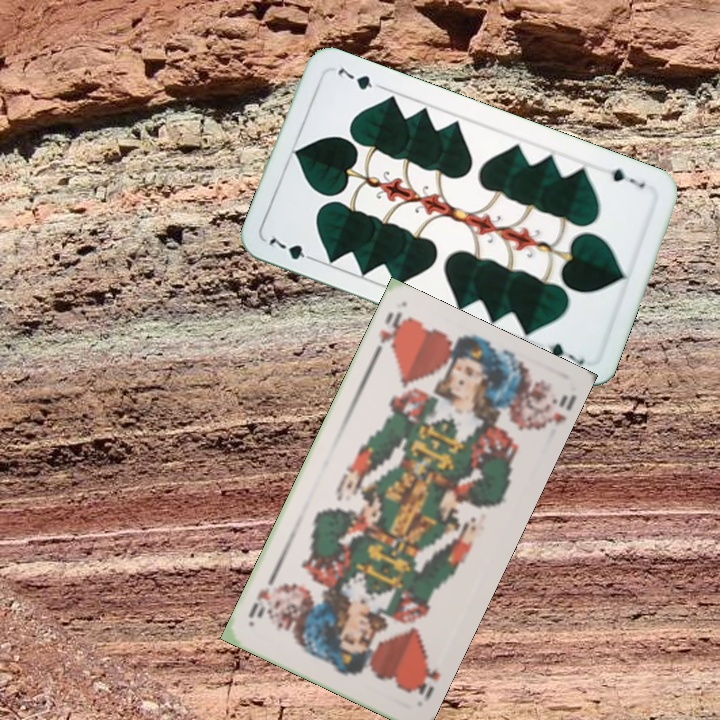G7: (264, 232, 320, 264), (600, 164, 648, 191)
HO: (369, 308, 410, 363), (407, 658, 443, 704)
